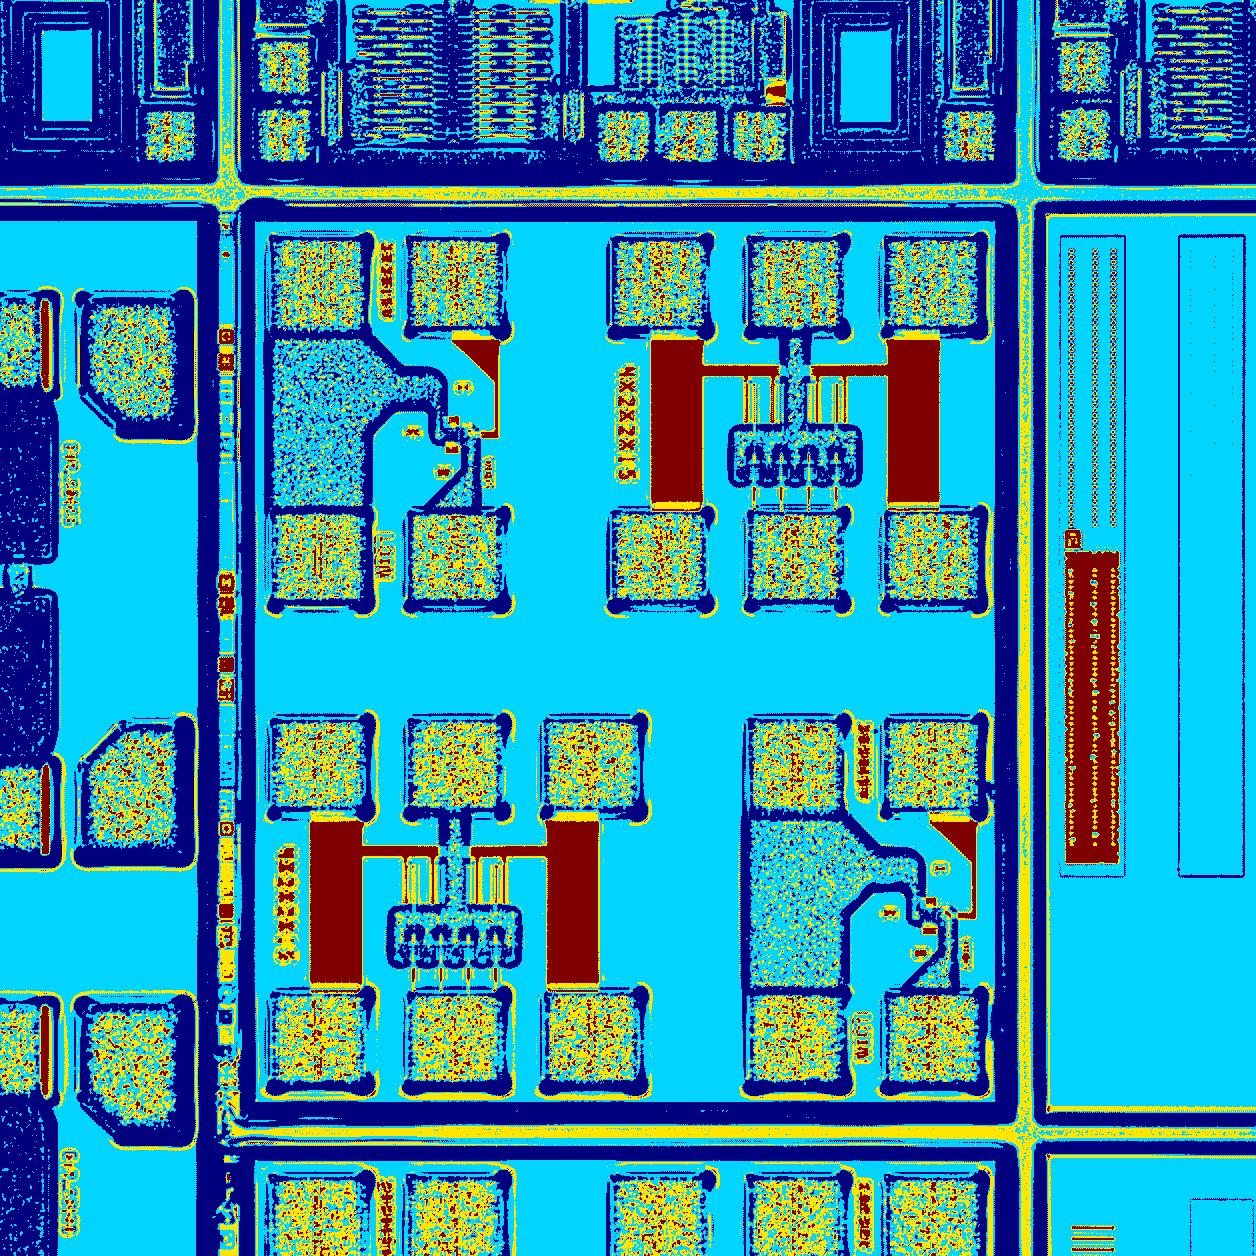Pad 3: (233, 198, 1020, 1125), (274, 239, 365, 332), (411, 240, 500, 328), (275, 722, 366, 809), (888, 721, 979, 807), (549, 722, 641, 807), (274, 513, 361, 600), (615, 240, 704, 327), (752, 514, 841, 600), (890, 514, 979, 600), (889, 996, 979, 1081), (752, 240, 838, 328), (616, 513, 703, 600), (549, 995, 635, 1082), (888, 240, 977, 326), (412, 721, 497, 809), (753, 722, 838, 810), (275, 996, 362, 1081), (412, 996, 498, 1081), (412, 513, 496, 600), (753, 995, 837, 1081)
